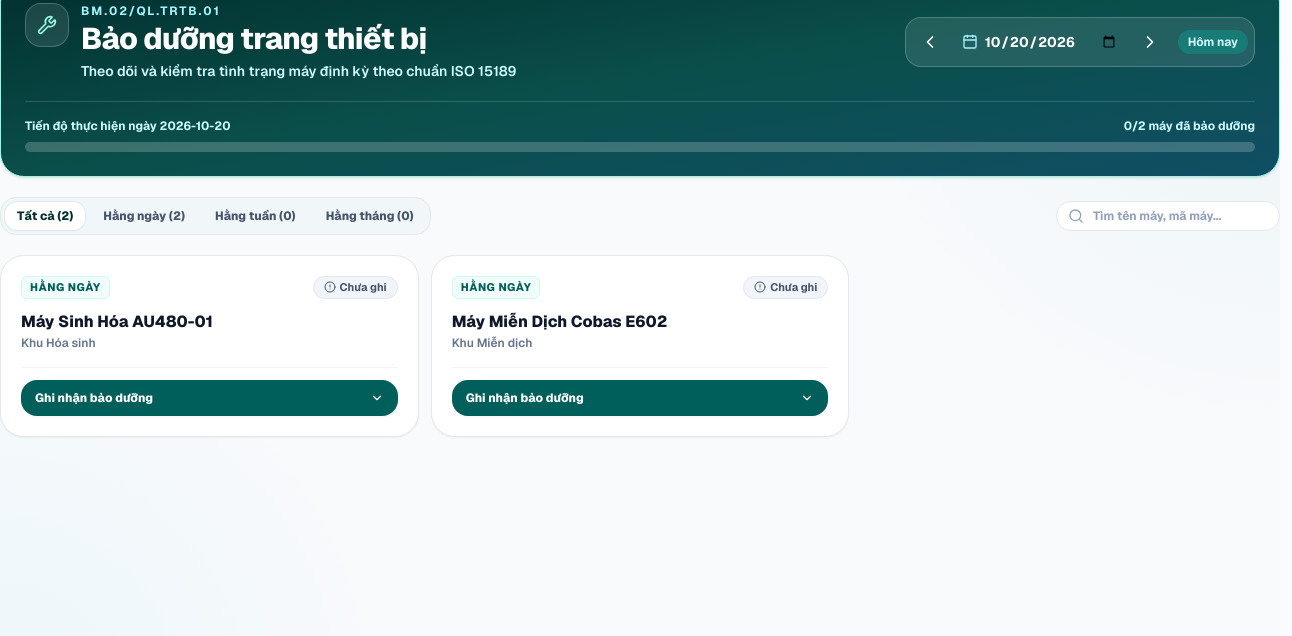
TASK 02A.1: Inline Editing & Live Updates for Maintenance (/maintenance) › 7. Restores unsaved draft automatically when form is closed and reopened
Note: Open first machine
Click the button "Ghi nhận bảo dưỡng" below "Khu Hóa sinh" at (94,398), box [21,380,398,416]
(page scrolled)
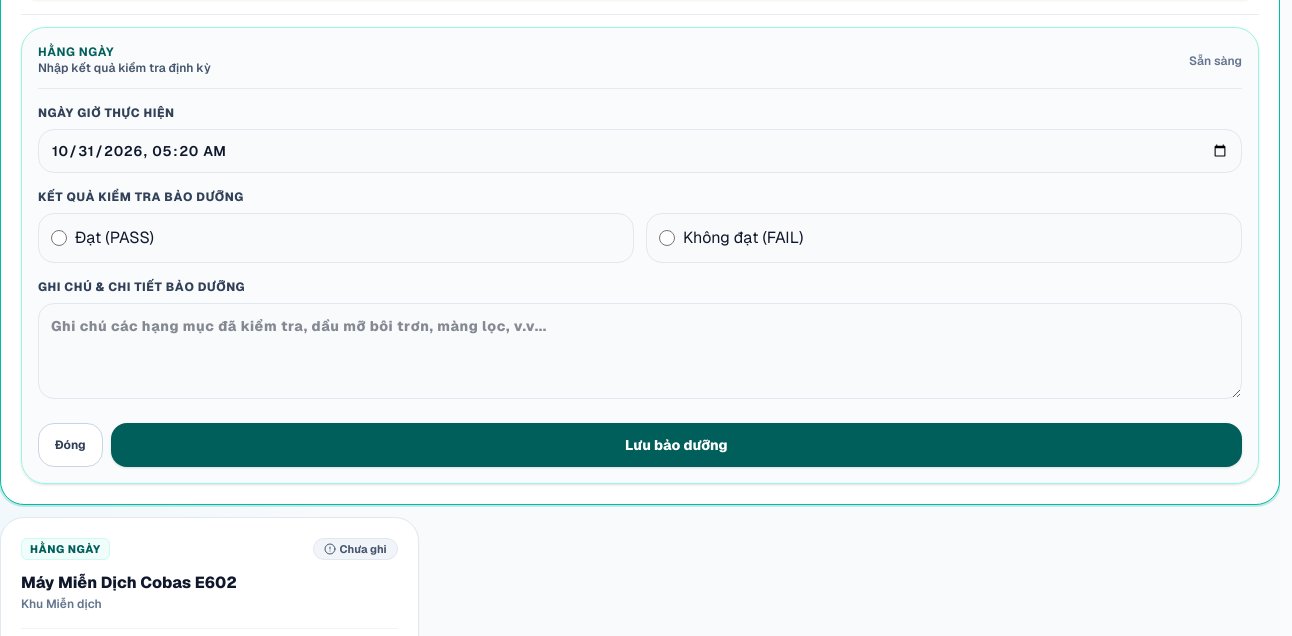
Note: Type into note
Replace the text in the text box with placeholder "Ghi chú các hạng mục" with "Bản nháp tự động lưu vào localStorage" at (640,350), box [38,302,1242,398]
(page scrolled)
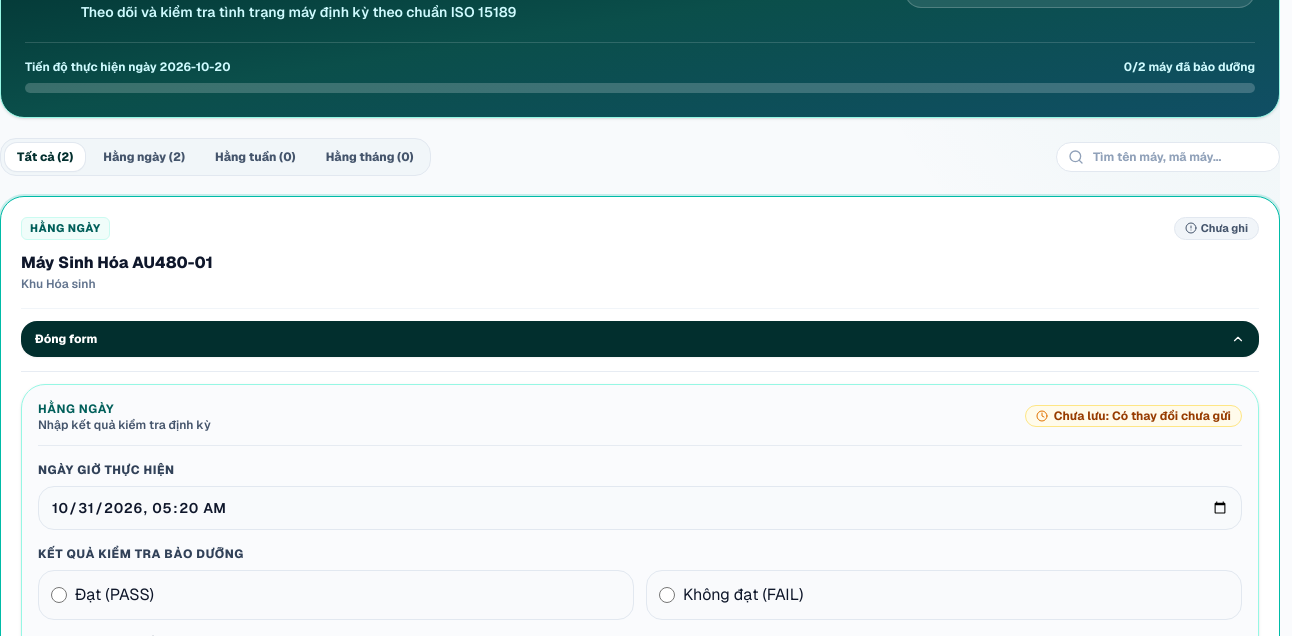
Note: Close form
Click the button "Đóng form" at (66,338), box [21,320,1259,356]
(page scrolled)
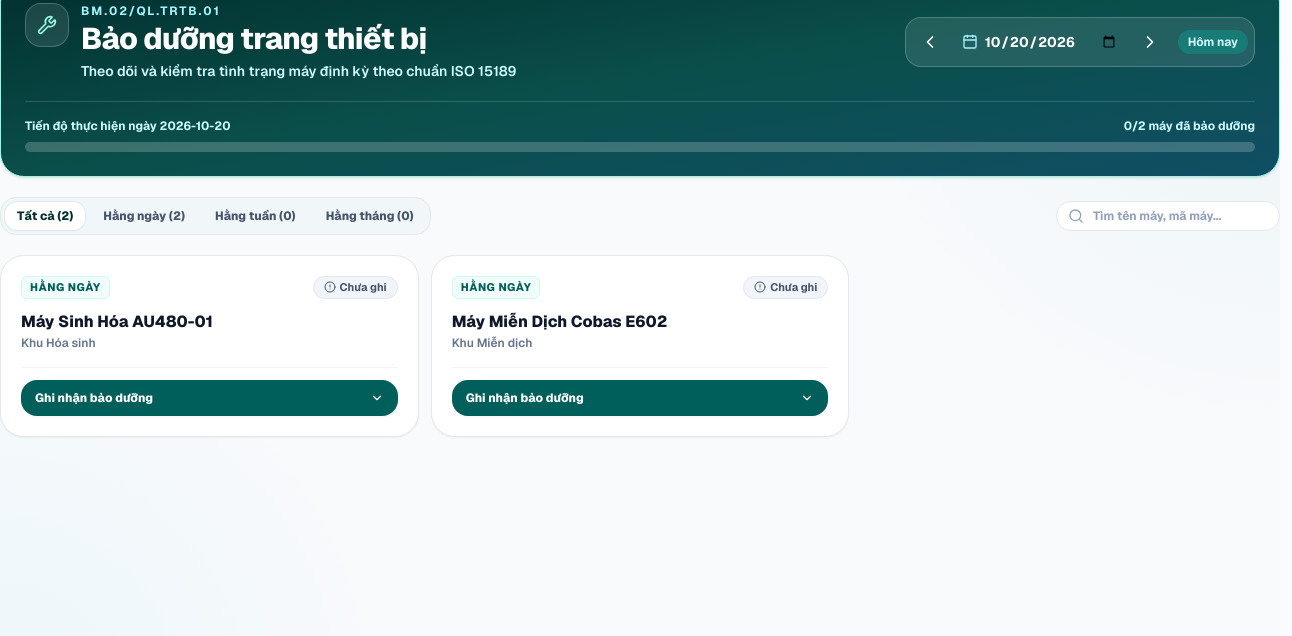
Expected: the field with placeholder "Ghi chú các hạng mục" is not shown
Note: Re-open form
Click the button "Ghi nhận bảo dưỡng" below "Khu Hóa sinh" at (94,398), box [21,380,398,416]
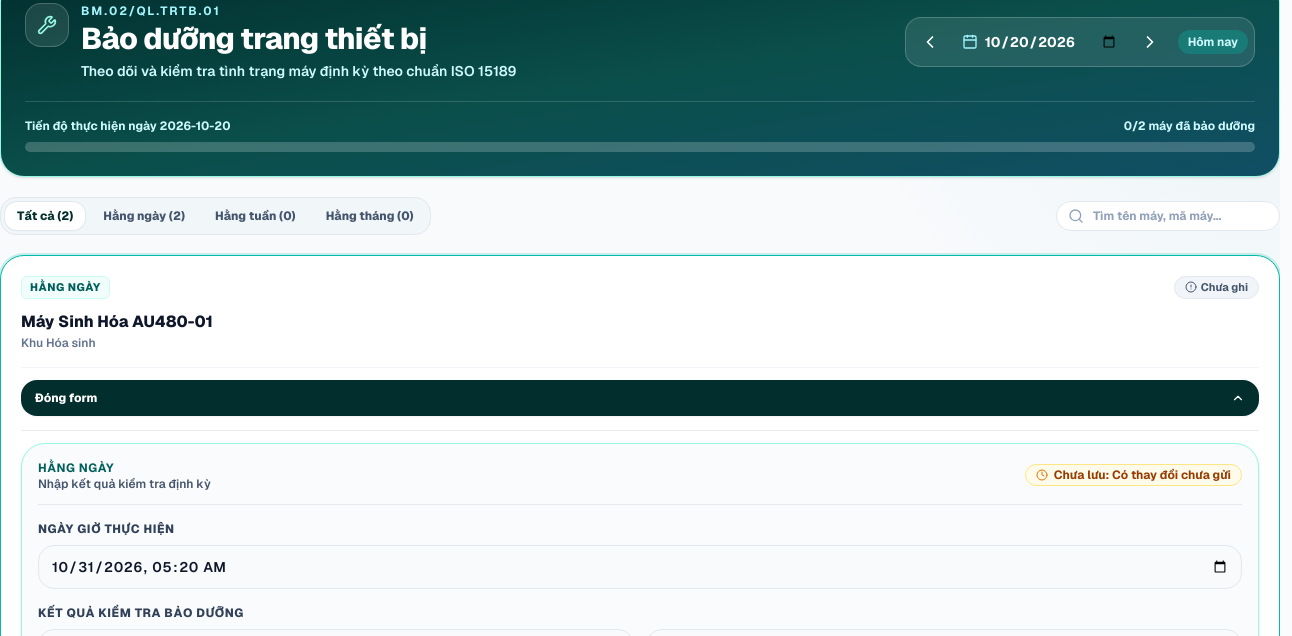
Expected: the text "Chưa lưu: Có thay đổi chưa gửi" is shown, [1025,464,1242,486]
